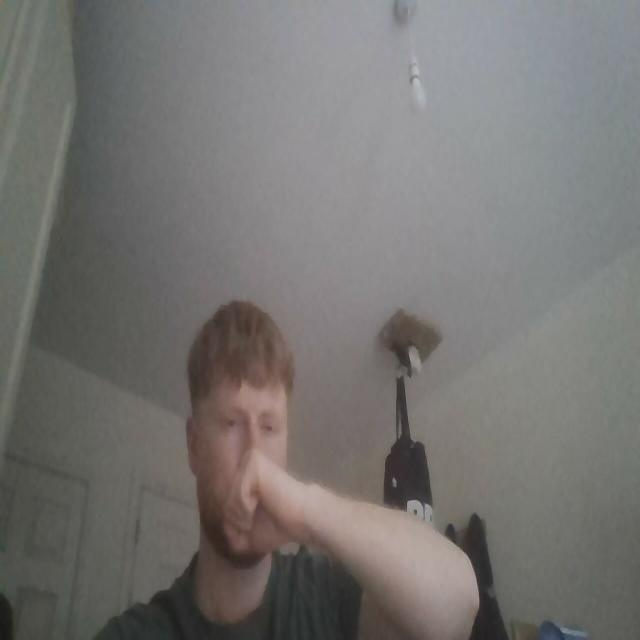rock: (221, 447, 302, 557)
